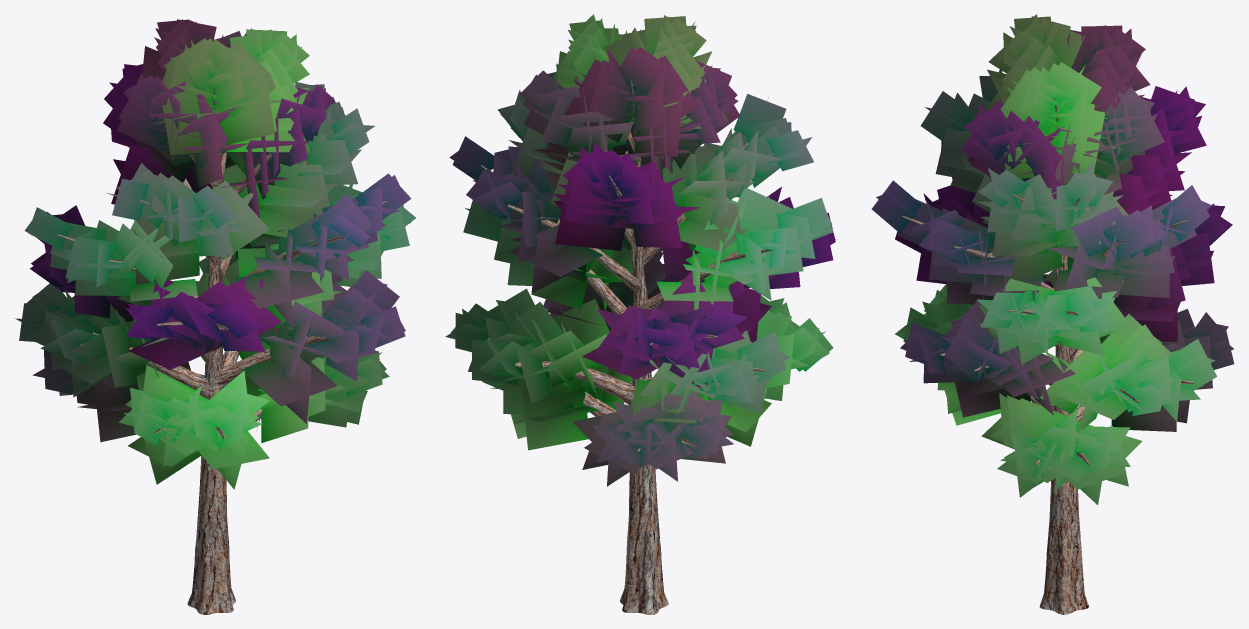
The model's file is myTree_04.fbx.
3 views of the same model, side by side, from view 1: azimuth 30°, elevation 25°; view 2: azimuth 150°, elevation 25°; view 3: azimuth 270°, elevation 25° (orthographic).
Visible parts, largest first — view 1: Tree_1, Tree_0; view 2: Tree_1, Tree_0; view 3: Tree_1, Tree_0.
Part boxes in pixels (x1,y1,x2,y2): Tree_1: (15, 19, 415, 489); Tree_0: (57, 77, 387, 614); Tree_1: (445, 14, 837, 486); Tree_0: (480, 81, 808, 614); Tree_1: (871, 14, 1234, 504); Tree_0: (902, 98, 1193, 614).
Bounding box in the file's own units: 286 × 458 × 260.
Materials: 1 (1 with a texture image).
